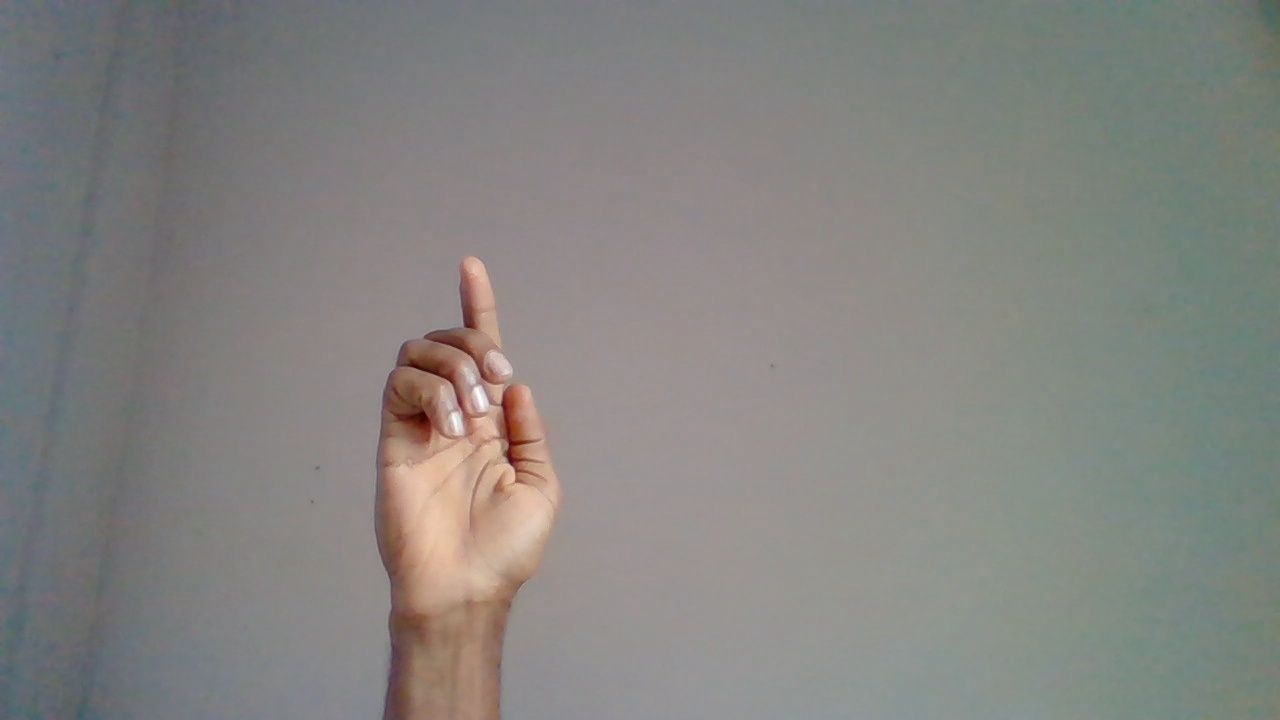qe: (371, 246, 572, 700)
